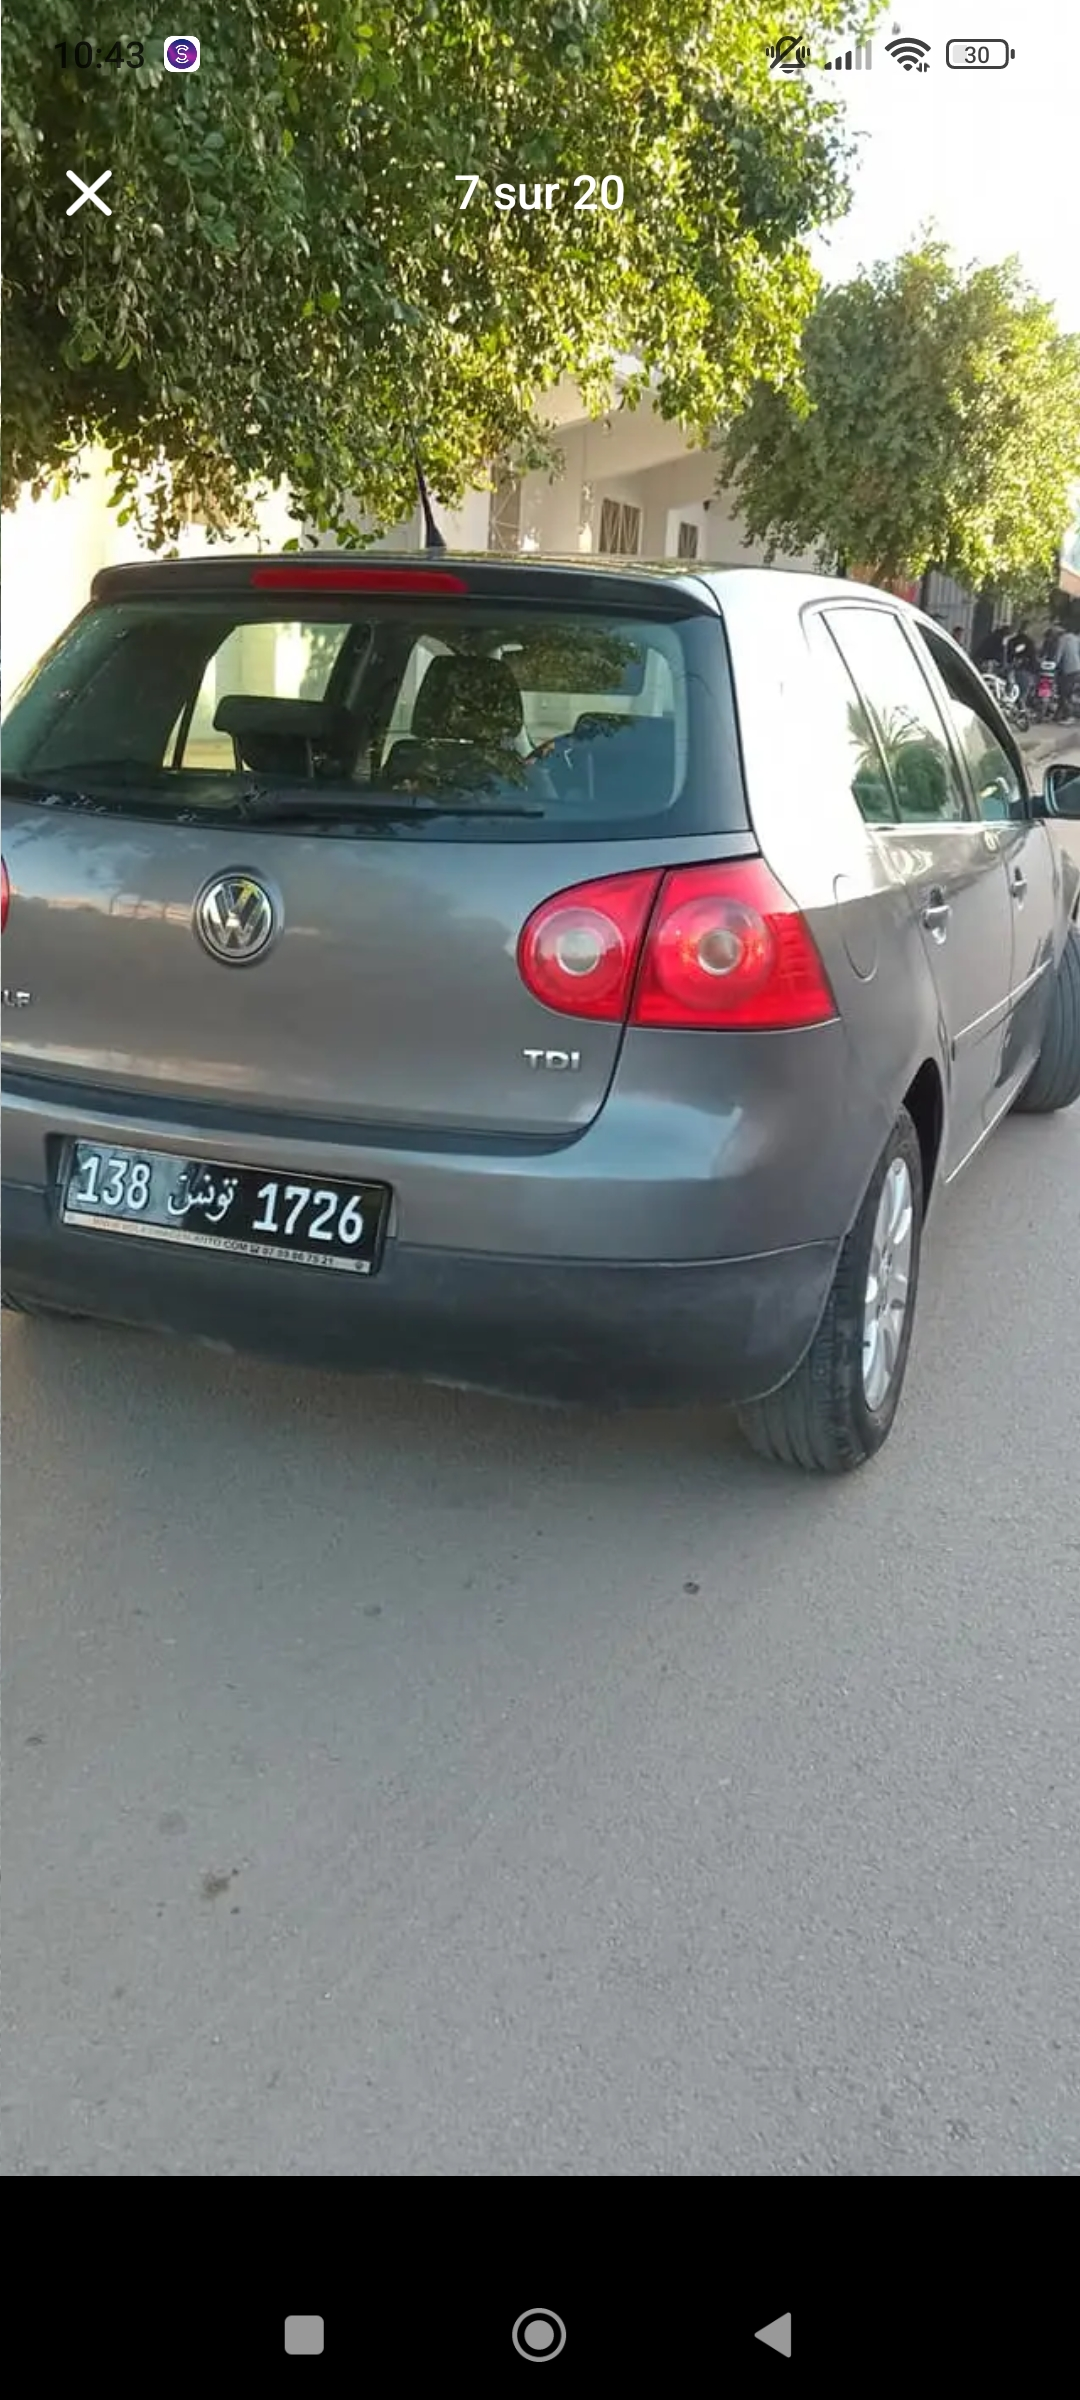volkswagen: (8, 542, 1080, 1476)
